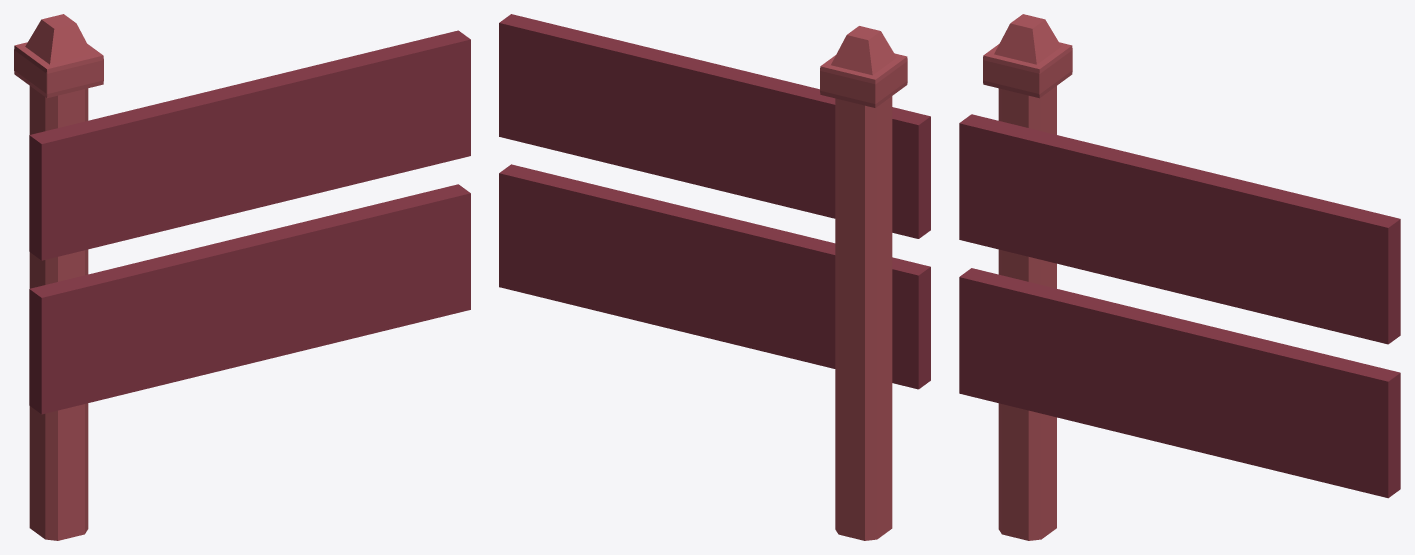
File: fence_1.glb
3 views of the same model, side by side, from view 1: azimuth 30°, elevation 25°; view 2: azimuth 150°, elevation 25°; view 3: azimuth 330°, elevation 25° (orthographic). The views are drawn at different scales.
Parts seen in each view (by area): view 1: Cube.001, Posts; view 2: Cube.001, Posts; view 3: Cube.001, Posts.
Part boxes in pixels (<box>): Cube.001: <box>29,30,470,414</box>; Posts: <box>14,14,103,540</box>; Cube.001: <box>499,14,930,389</box>; Posts: <box>820,26,907,540</box>; Cube.001: <box>959,114,1400,498</box>; Posts: <box>983,14,1072,540</box>.
Size of the model in its own units: 2 by 2.26 by 0.3404.
1 material, 1 textured.
